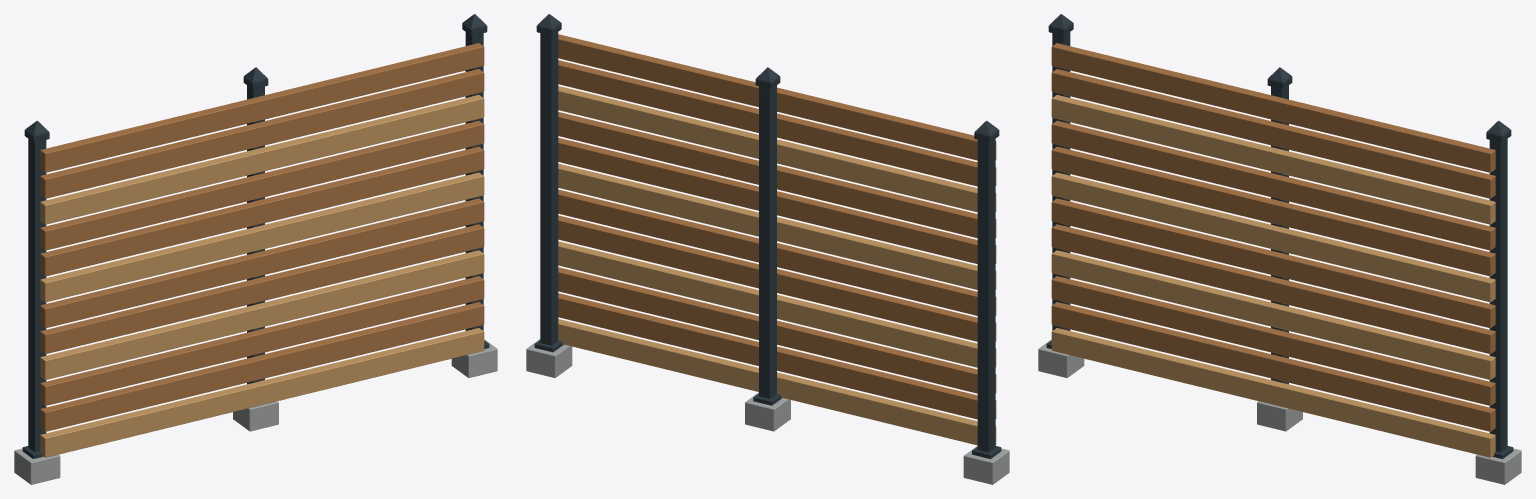
Rendered from b19_horizontal_cedar_slat_fence.glb.
3 renders of one model, left to right at view 1: azimuth 30°, elevation 25°; view 2: azimuth 150°, elevation 25°; view 3: azimuth 330°, elevation 25°, orthographic.
Visible parts, largest first — view 1: b19_horizontal_cedar_slat_fence; view 2: b19_horizontal_cedar_slat_fence; view 3: b19_horizontal_cedar_slat_fence.
Part boxes in pixels (left/top/right/bottom): b19_horizontal_cedar_slat_fence: left=14, top=14, right=497, bottom=484; b19_horizontal_cedar_slat_fence: left=526, top=14, right=1009, bottom=484; b19_horizontal_cedar_slat_fence: left=1038, top=14, right=1521, bottom=484.
Bounding box in the file's own units: 2.61 × 1.89 × 0.1675.
